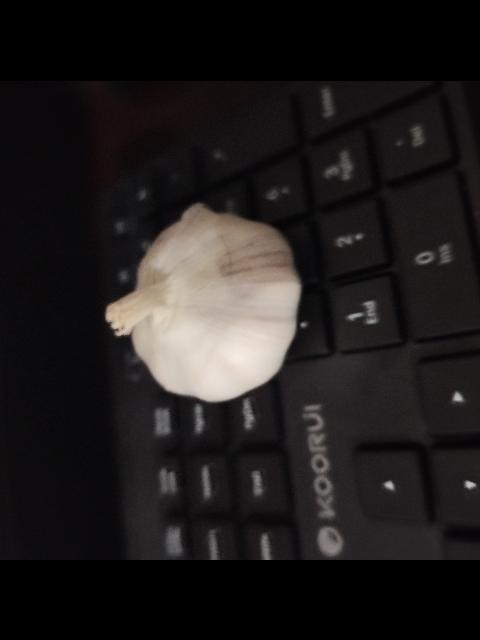garlic: (104, 202, 302, 402)
